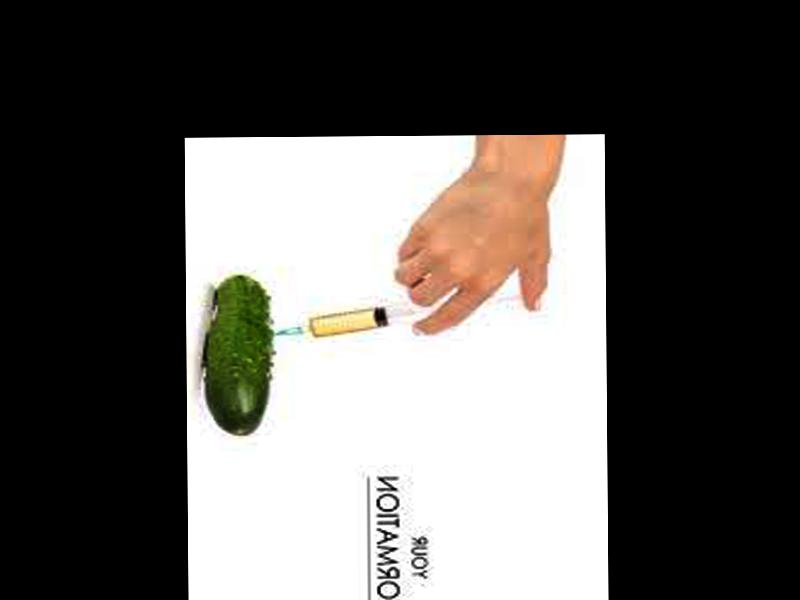Cucumber: (207, 273, 274, 435)
